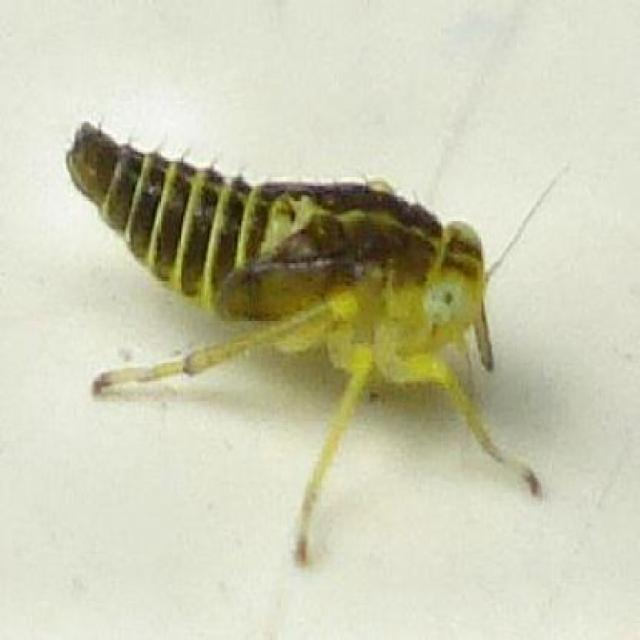green-leafhopper: (70, 125, 512, 546)
